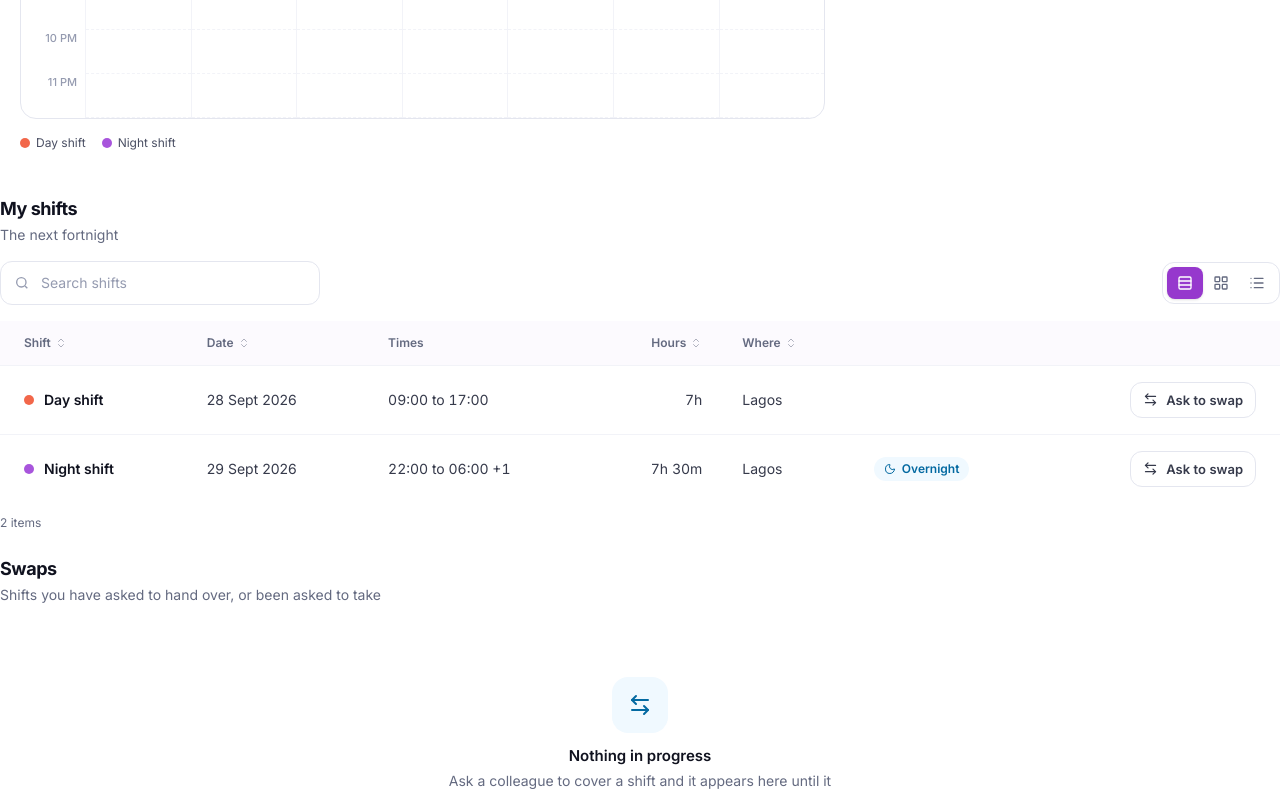
it: MyRoster › swaps › says that agreeing is not the end of it
This screenshot has width=1280, height=793.
(page scrolled)
Click the button "Ask to swap" in the row of "28 Sept 2026" at (1193, 400), box [1130, 382, 1256, 418]
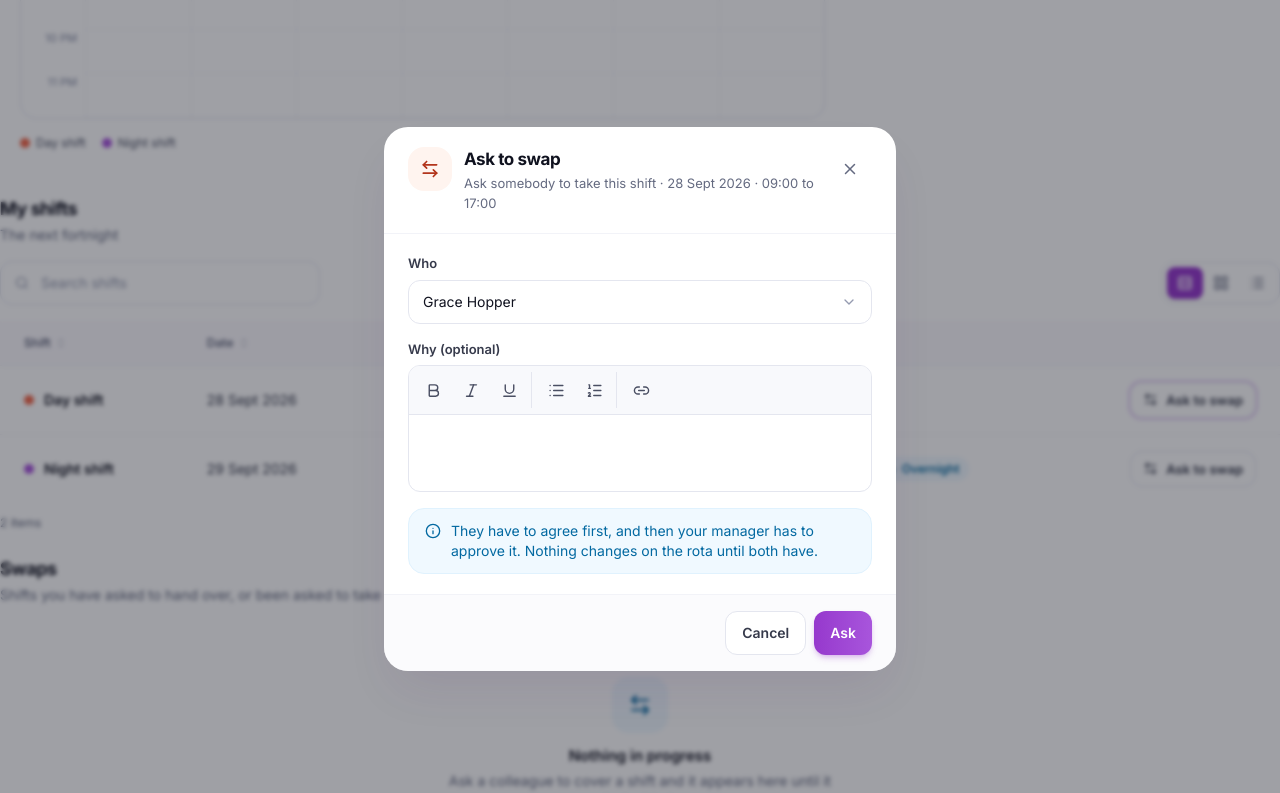
Now the text "Nothing changes on the rota until both have" is shown, box [451, 522, 818, 559]
